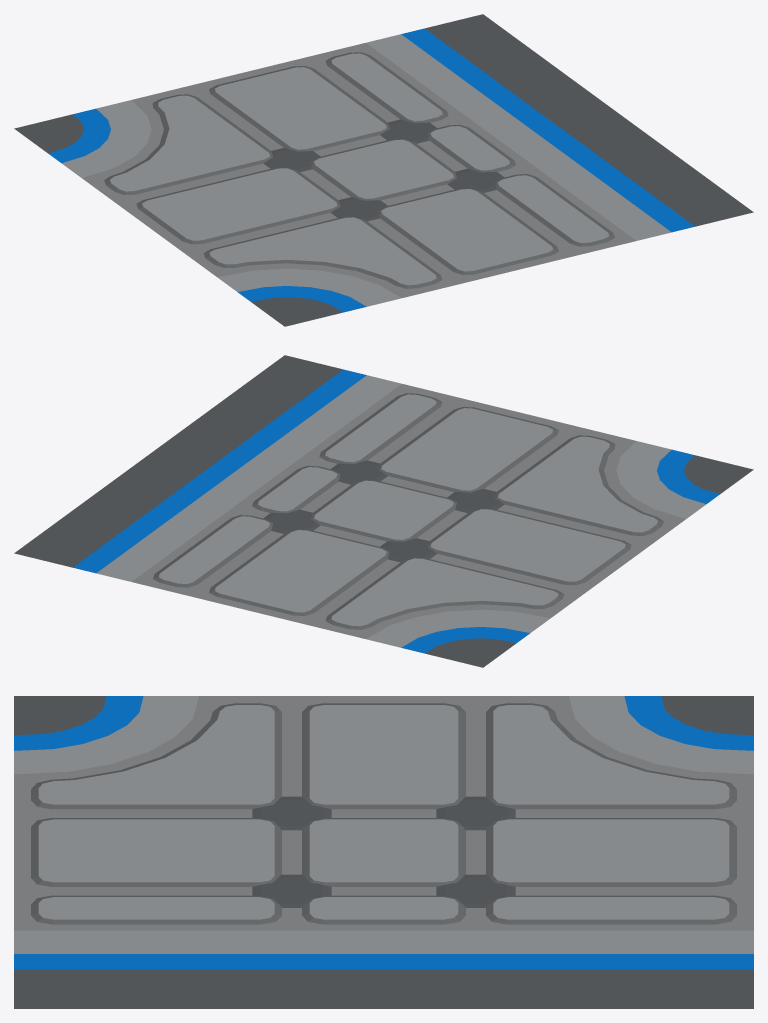
The model's file is Floor_type_B_020.glb.
3 views of the same model, one above another, from view 1: azimuth 30°, elevation 25°; view 2: azimuth 150°, elevation 25°; view 3: azimuth 270°, elevation 25° (orthographic). The views are drawn at different scales.
Parts seen in each view (by area): view 1: Floor_type_B_020; view 2: Floor_type_B_020; view 3: Floor_type_B_020.
Boxes of the visible parts, x1=… form: Floor_type_B_020: x1=14, y1=14, x2=753, y2=326; Floor_type_B_020: x1=14, y1=355, x2=753, y2=667; Floor_type_B_020: x1=14, y1=696, x2=753, y2=1008.
Size of the model in its own units: 4 by 0.0134 by 4.
2 materials, 2 textured.
